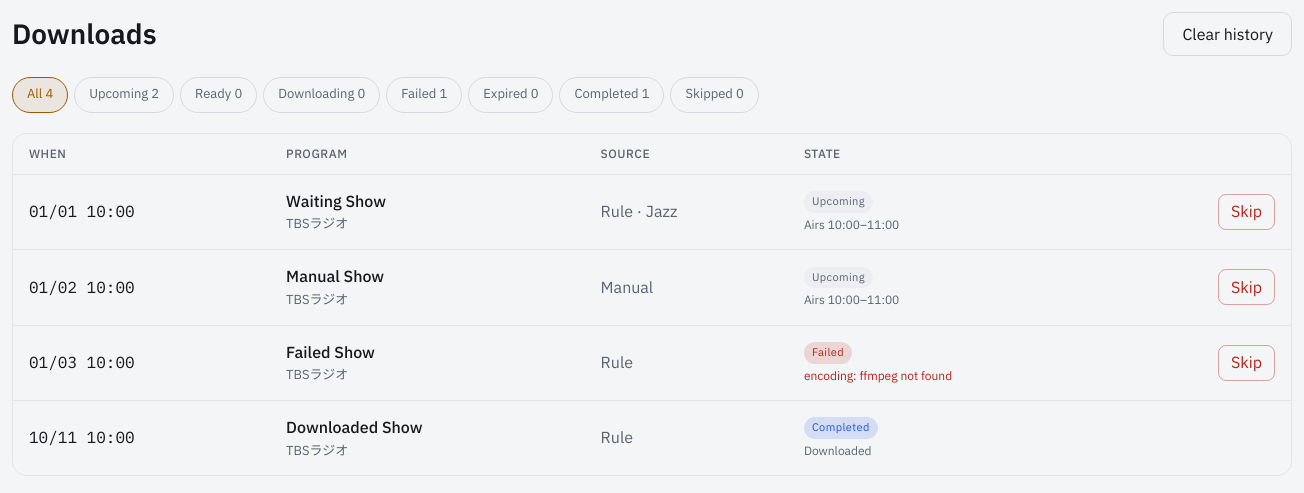
Scenario: Downloads › filters by state
Expected: the button "Waiting Show" is shown, [286,189,386,214]
Click the button "Failed 1" at (424, 95), box [386,77,462,113]
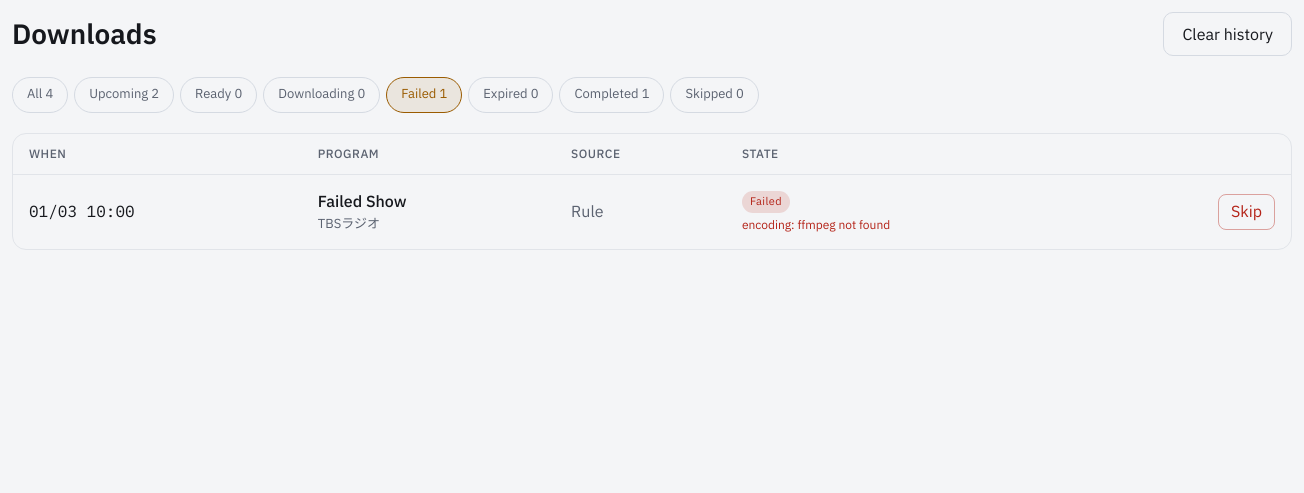
Expected: the text "encoding: ffmpeg not found" is shown, [742,217,890,232]
Expected: the button "Waiting Show" is gone
Click the button "Completed 1" at (612, 95), box [560,77,664,113]
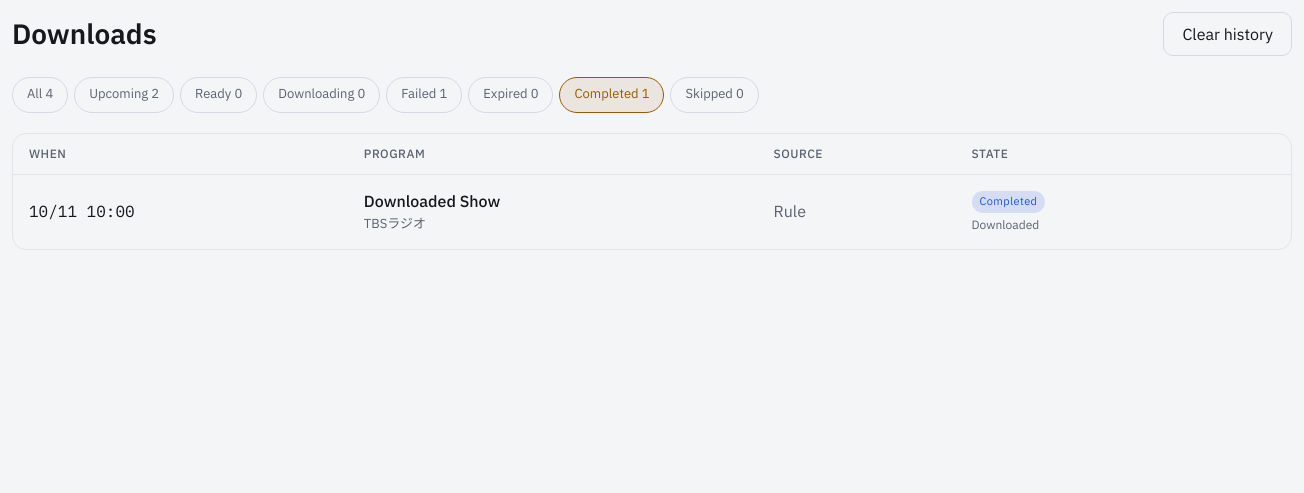
Expected: the button "Downloaded Show" is shown, [364,189,500,214]
Expected: the button "Failed Show" is gone
